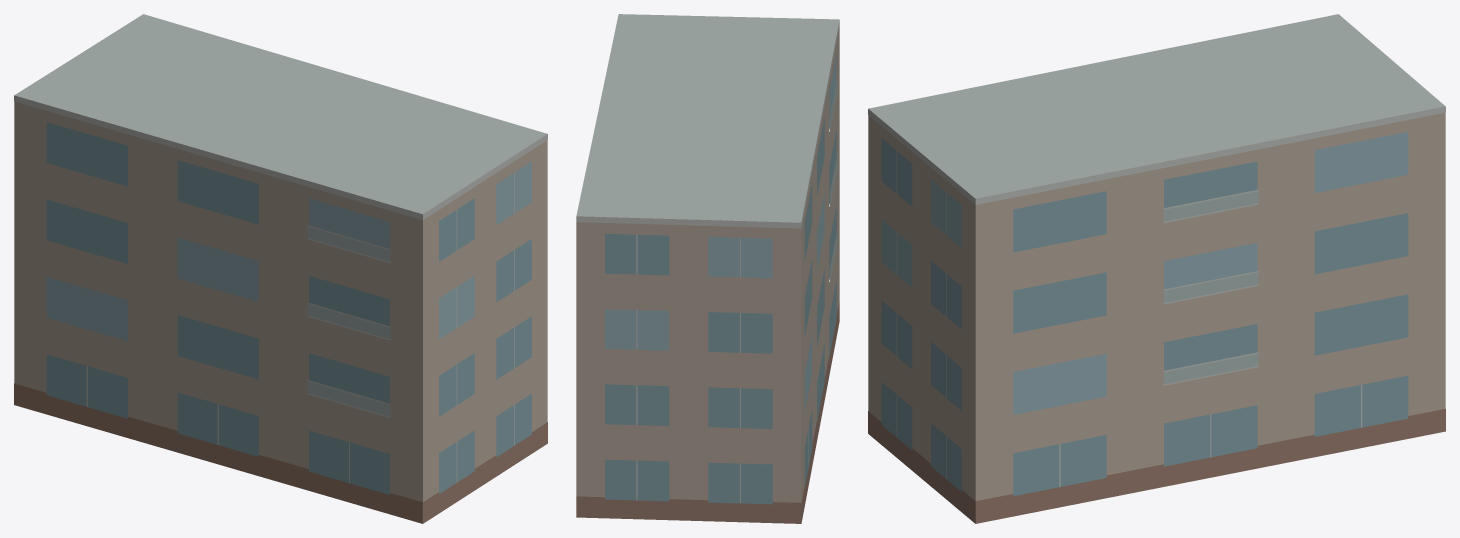
Rendered from survey-upis-32806200.glb.
3 renders of one model, left to right at view 1: azimuth 30°, elevation 25°; view 2: azimuth 150°, elevation 25°; view 3: azimuth 270°, elevation 25°, orthographic. The views are drawn at different scales.
Visible parts, largest first — view 1: survey-upis-32806200.tmp; view 2: survey-upis-32806200.tmp; view 3: survey-upis-32806200.tmp.
Part boxes in pixels (<box>): survey-upis-32806200.tmp: <box>14,14,547,523</box>; survey-upis-32806200.tmp: <box>576,14,839,523</box>; survey-upis-32806200.tmp: <box>868,14,1445,523</box>.
Bounding box in the file's own units: 15.5 × 12.7 × 20.46.
